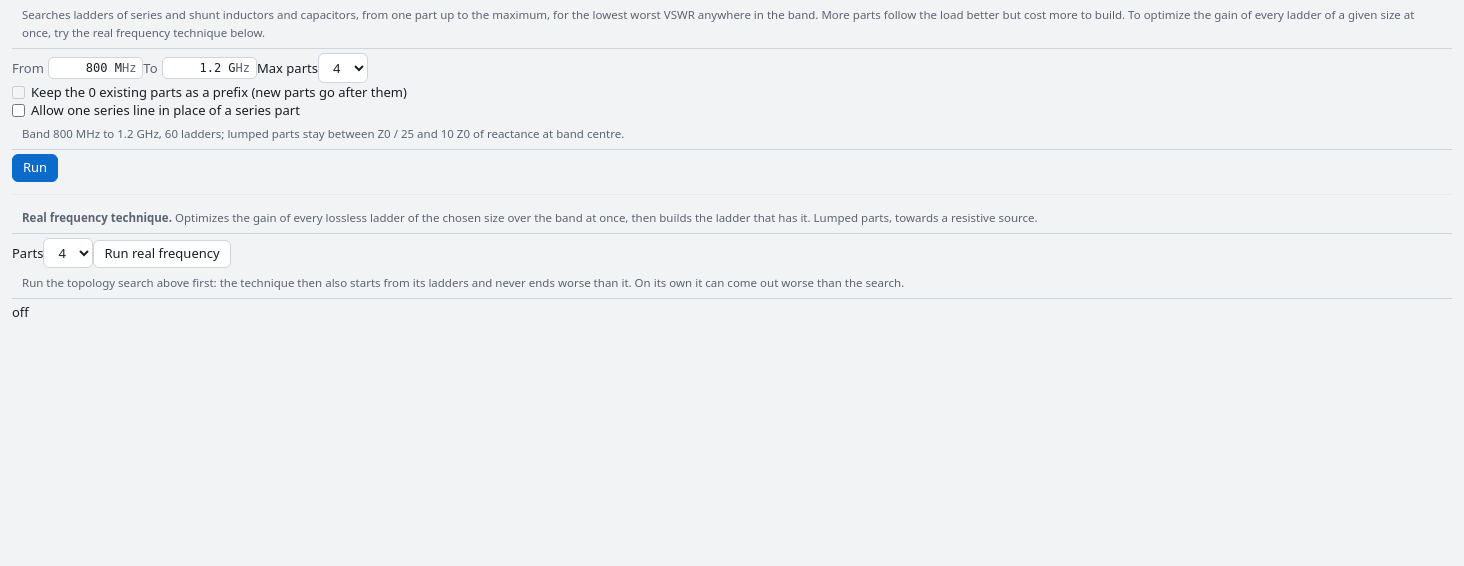
Test: Broadband list on a coarse pointer, target = Z0 › a tap selects the row and shows Add
Click the button "Run": click(35, 168) [12,154,58,182]
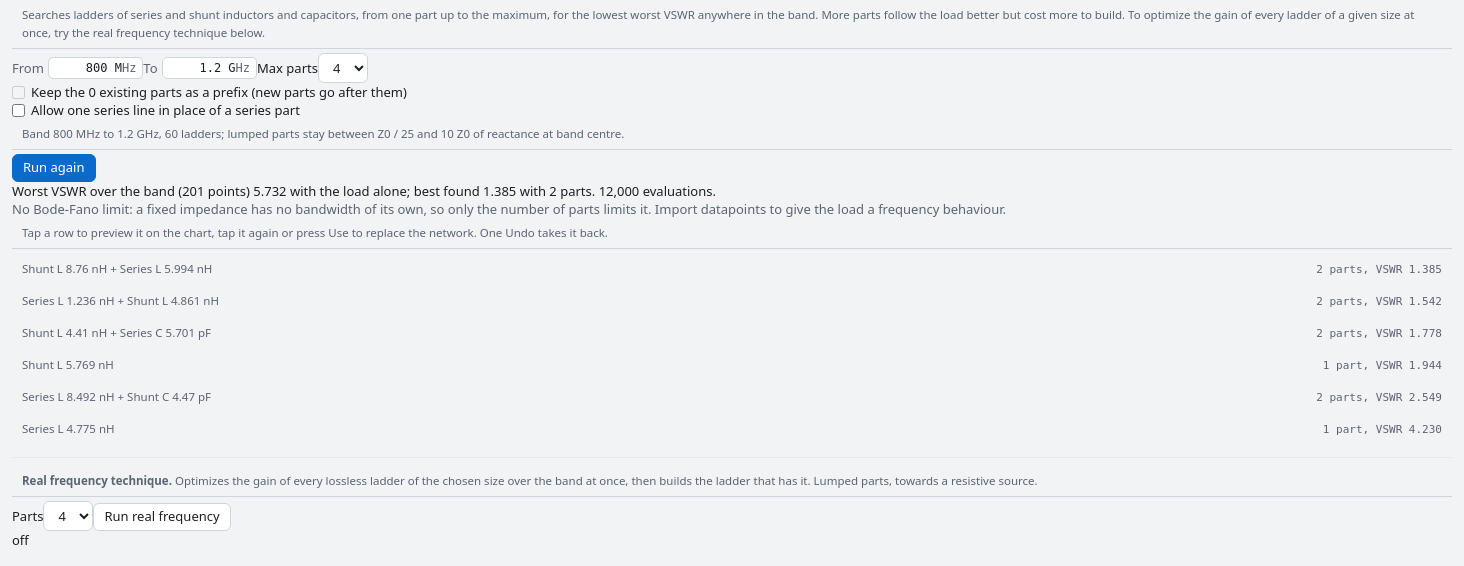
Now the 1st button with class "solution-pick" is shown
Click the 1st button with class "solution-pick": click(42, 268) [12,253,1452,285]
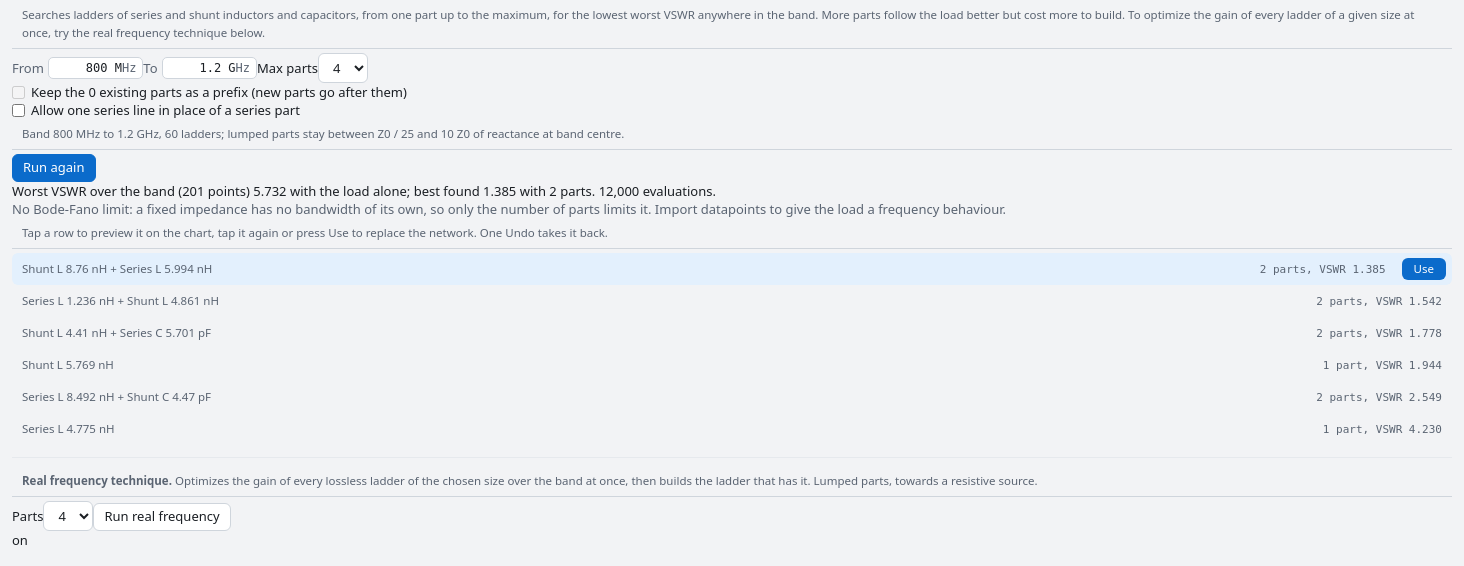
Now the text with test id "preview" reads "on", box [12,531,28,549]
Now the button with class "solution-add" is shown, box [1402,258,1446,280]
